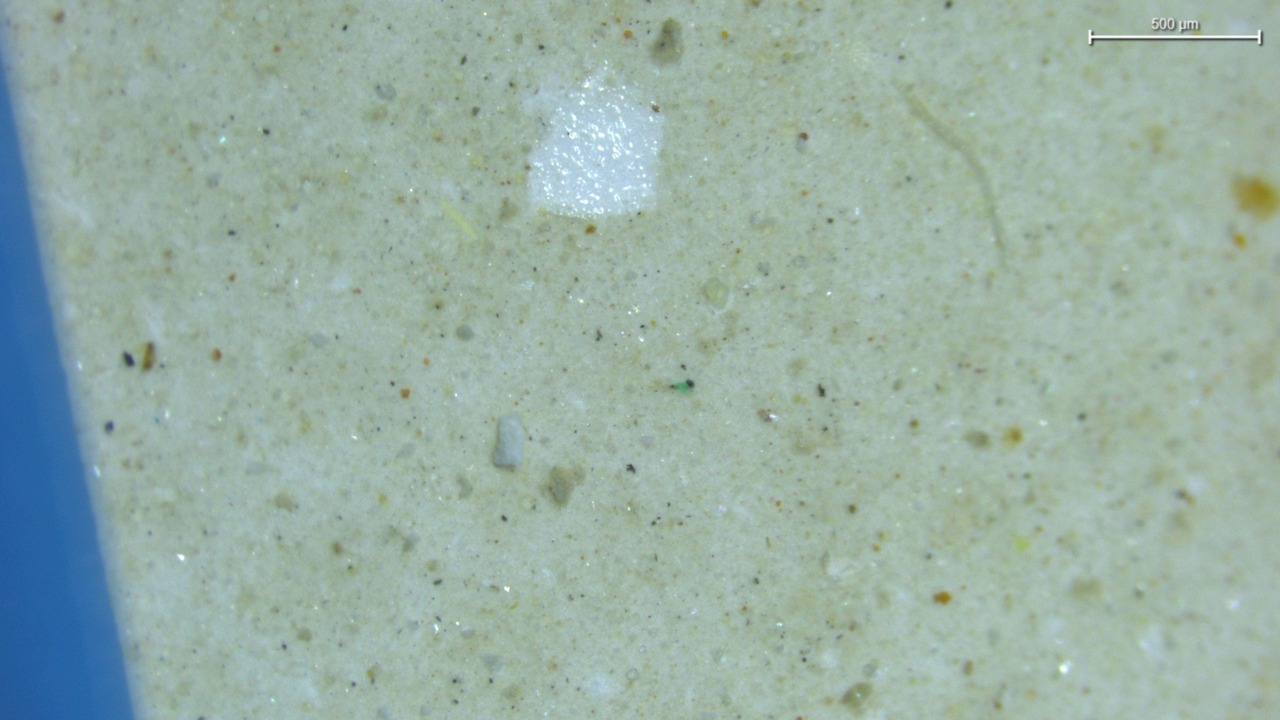microplastic_fragment: (493, 412, 524, 468), (701, 277, 730, 310)
